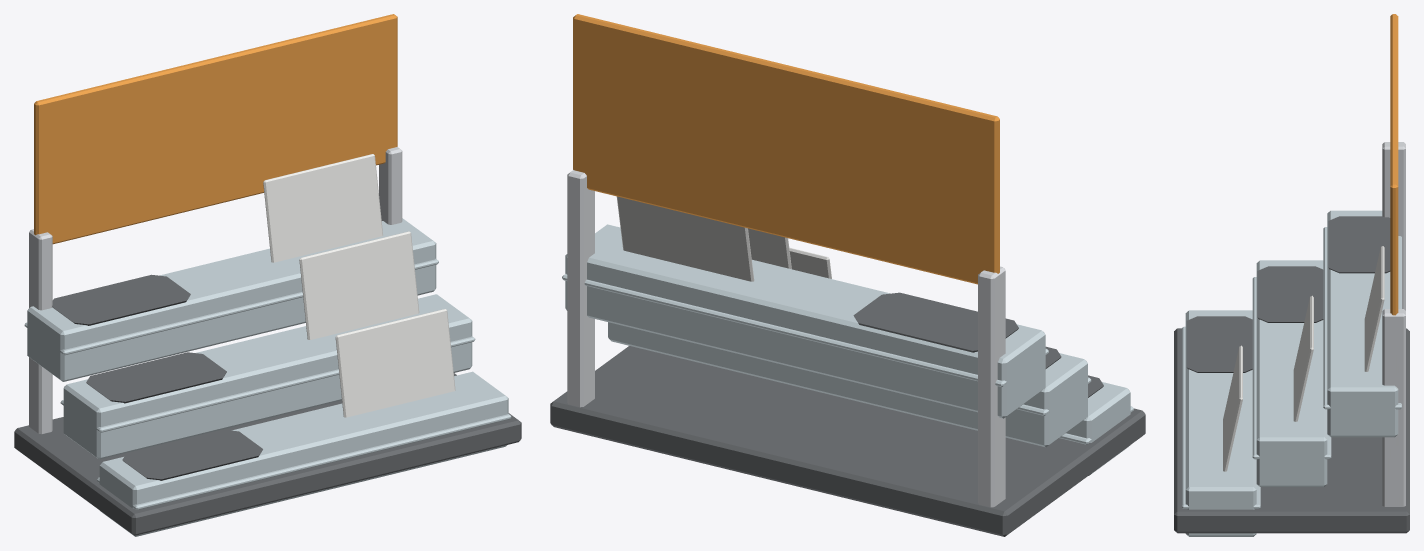
3 renders of one model, left to right at view 1: azimuth 30°, elevation 25°; view 2: azimuth 150°, elevation 25°; view 3: azimuth 270°, elevation 25°, orthographic. The views are drawn at different scales.
Parts seen in each view (by area): view 1: cordless-drill-display-stand; view 2: cordless-drill-display-stand; view 3: cordless-drill-display-stand.
Boxes of the visible parts, <box> form: cordless-drill-display-stand: <box>14,14,521,536</box>; cordless-drill-display-stand: <box>550,14,1145,536</box>; cordless-drill-display-stand: <box>1174,14,1409,536</box>.
Size of the model in its own units: 0.56 by 0.49 by 0.3.
